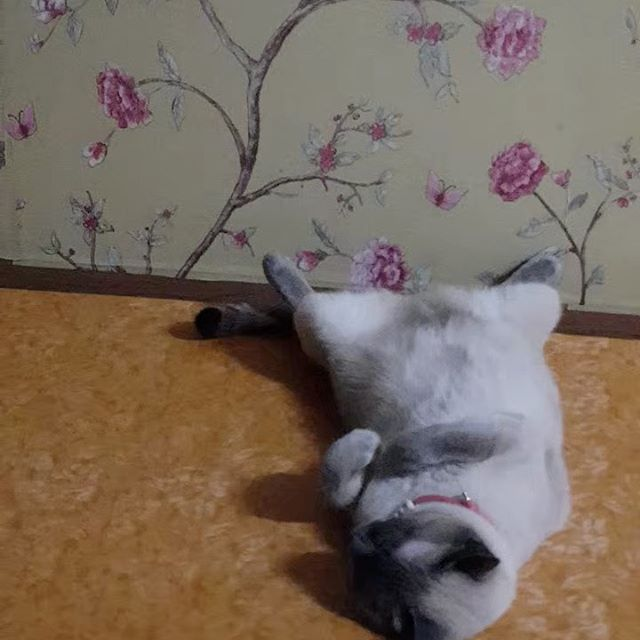cat: (349, 492, 497, 640)
